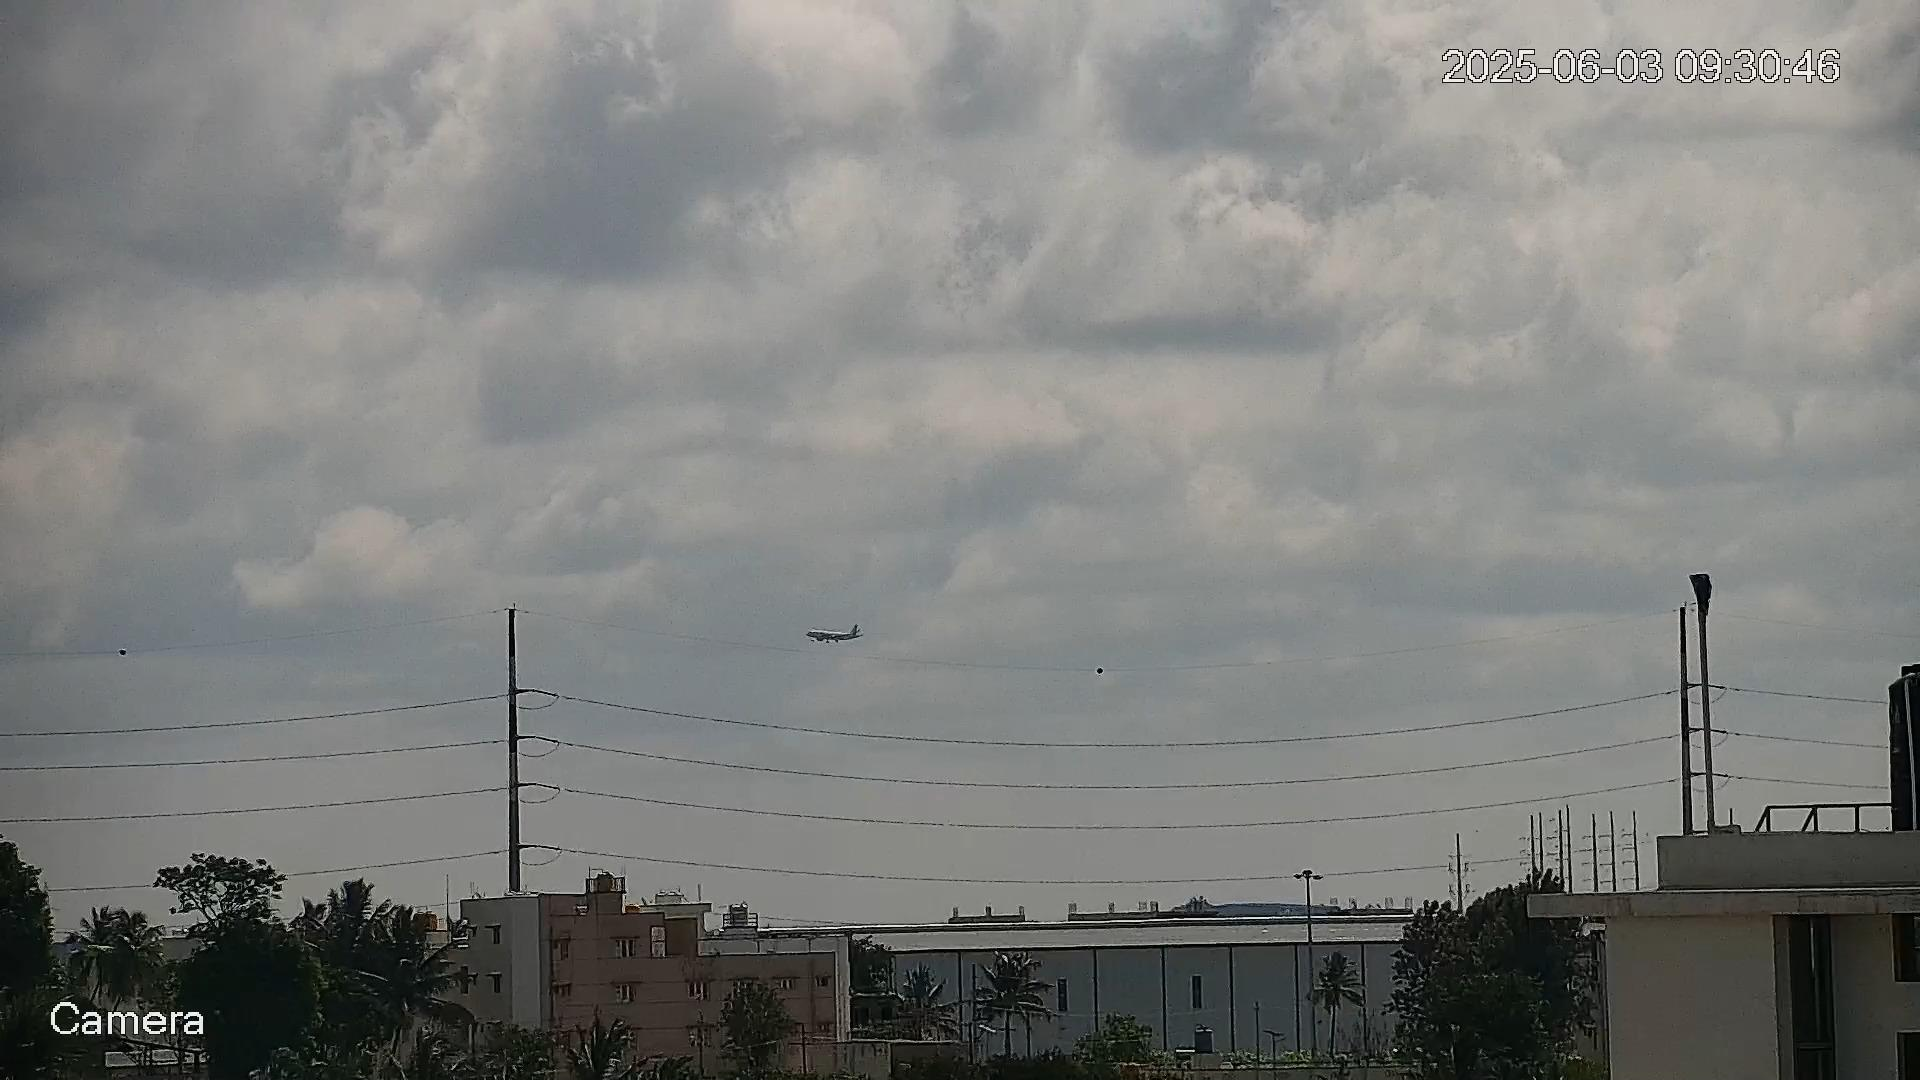Aircraft: (804, 624, 864, 644)
